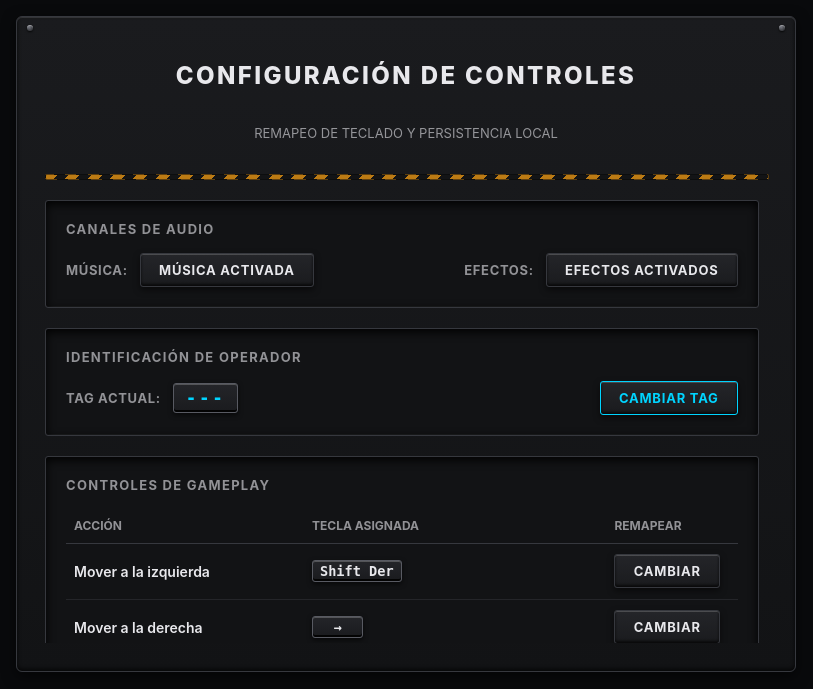
Scenario: SettingsScreen.vue — Interfaz y captura de controles › muestra un mensaje de error cuando se intenta asignar una tecla reservada como Tab o F1
This screenshot has width=813, height=689.
Step 1. Click the button with test id "change-btn-moveLeft" → (667, 571), box [614, 554, 720, 588]
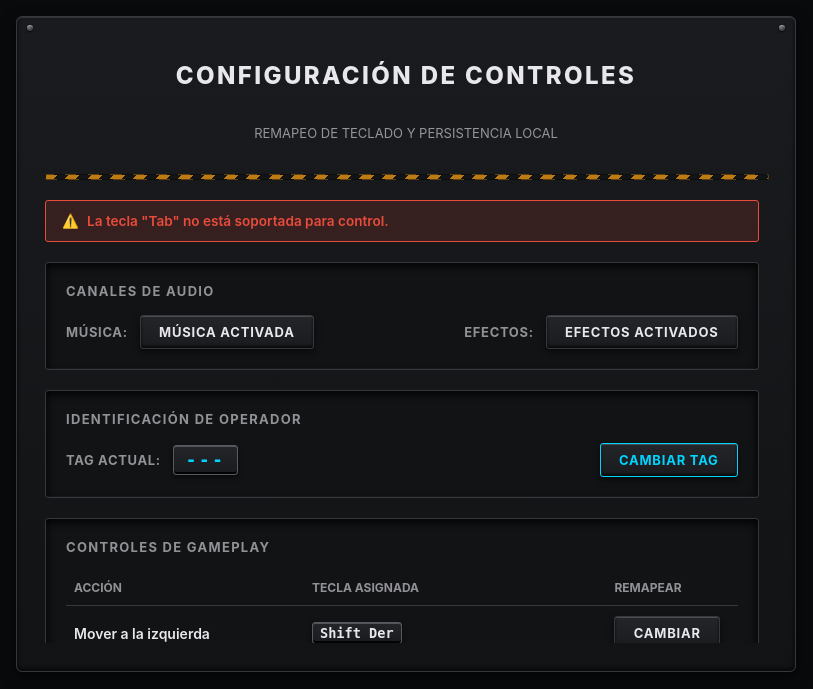
Check: the message "⚠️ La tecla \"Tab\" no está soportada para control." is shown, box [45, 200, 759, 242]
Check: the message with test id "settings-error-banner" shows "no está soportada", box [87, 212, 389, 228]
